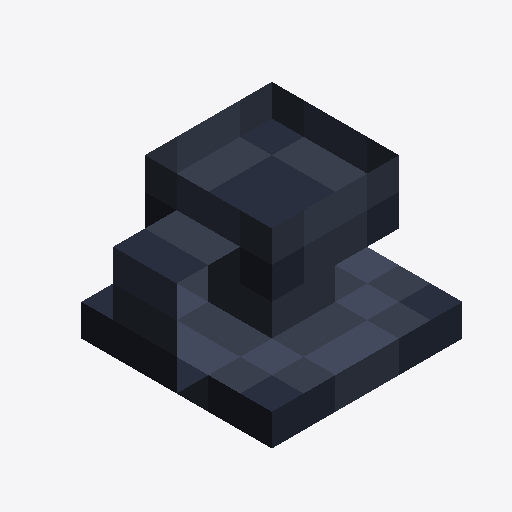
A Minecraft block model of 10 cuboids, rendered isometrically (azimuth 45°, elevation 35.3°) with the resource pack's own textures.
Parts seen in each view (by area): element 1, element 3, element 5, element 2, element 4, element 10, element 9, element 8, element 7, element 6.
Part boxes in pixels (bbox=[...]): element 1: bbox=[81, 247, 461, 447]; element 3: bbox=[145, 119, 398, 301]; element 5: bbox=[113, 247, 176, 392]; element 2: bbox=[208, 265, 334, 337]; element 4: bbox=[114, 210, 239, 282]; element 10: bbox=[272, 155, 398, 264]; element 9: bbox=[145, 156, 271, 264]; element 8: bbox=[145, 82, 271, 172]; element 7: bbox=[272, 82, 397, 172]; element 6: bbox=[177, 357, 207, 392].
Bounding box in the file's own units: 7 × 5 × 6.